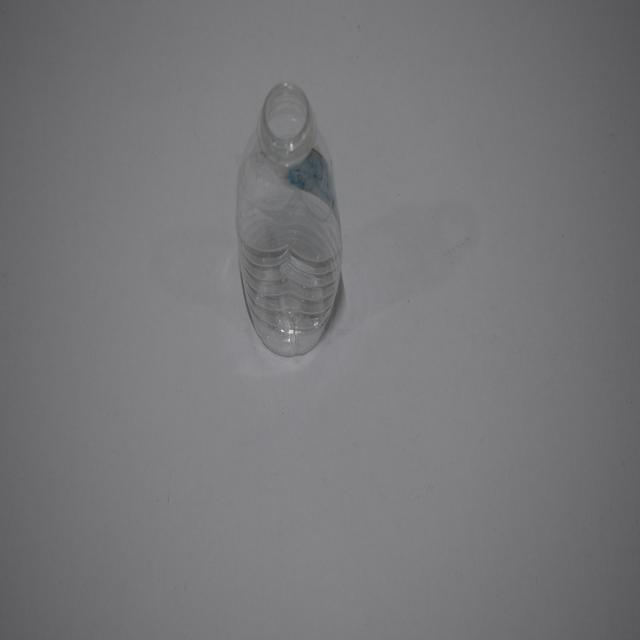plastic: (232, 76, 344, 367)
